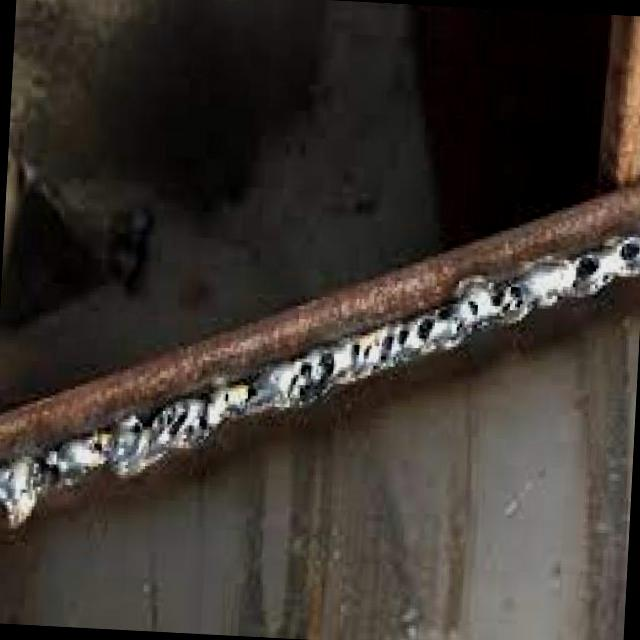defect: (286, 347, 339, 405), (152, 405, 213, 449), (348, 325, 412, 362), (485, 276, 529, 327), (411, 303, 455, 343), (568, 255, 600, 296), (27, 449, 63, 485), (616, 236, 640, 277), (123, 414, 145, 445), (240, 383, 261, 409), (464, 296, 481, 321), (91, 439, 107, 459), (223, 390, 232, 405)
